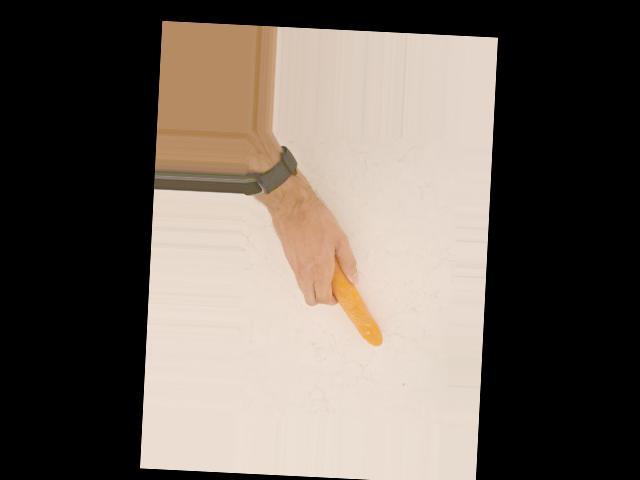carrot: (328, 252, 387, 346)
